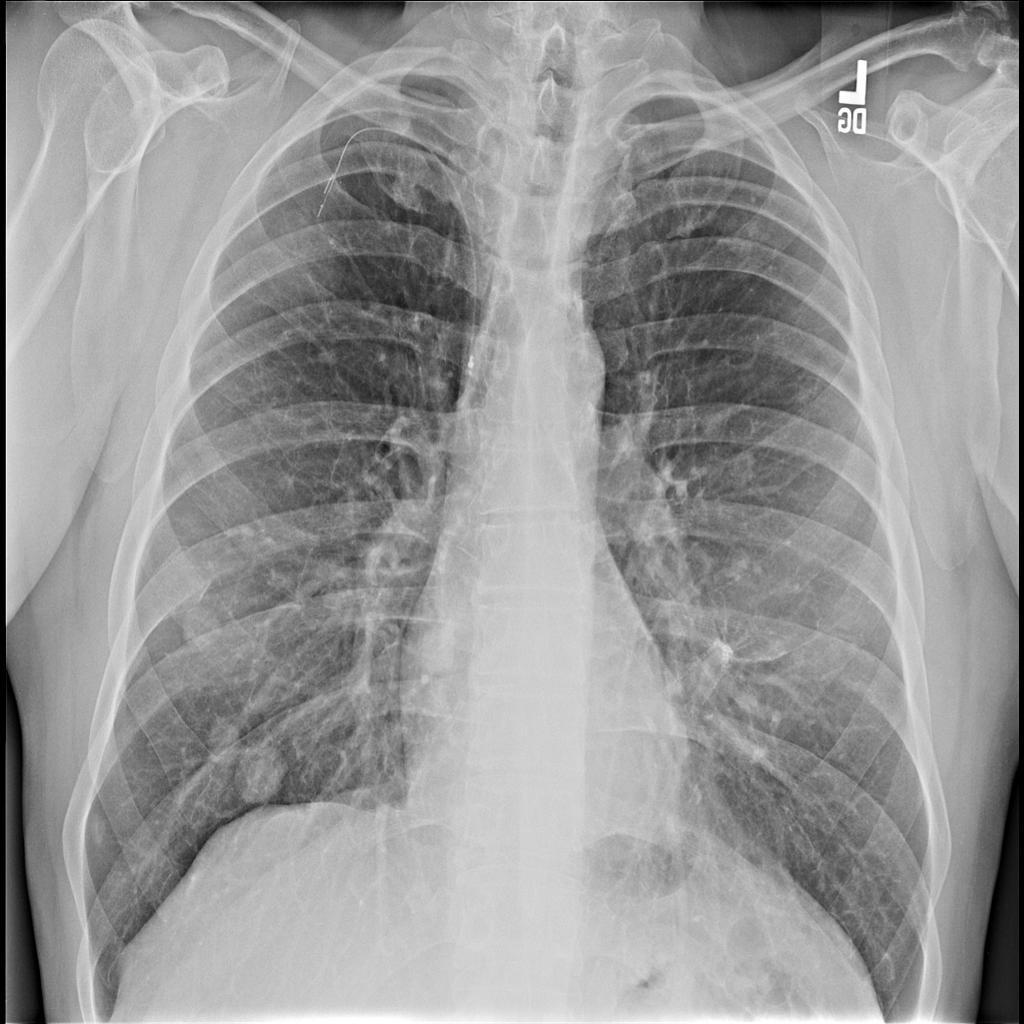Nodule: (235, 743, 283, 805), (201, 708, 239, 768), (179, 607, 220, 648)
